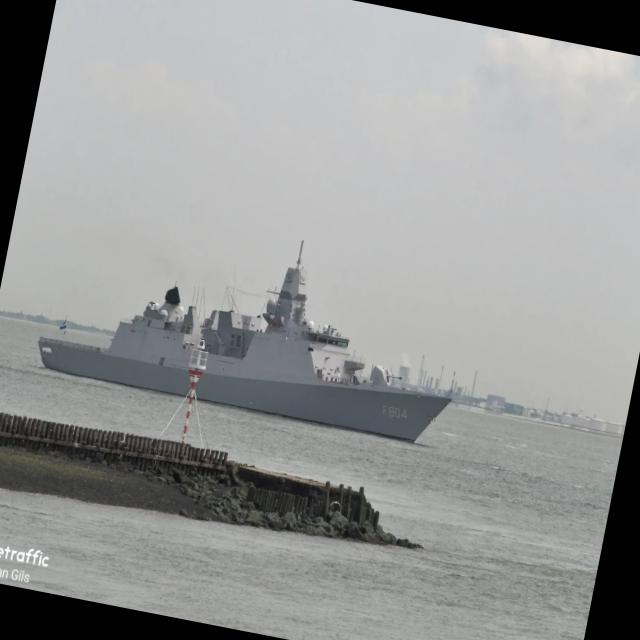Military: (39, 245, 451, 441)
